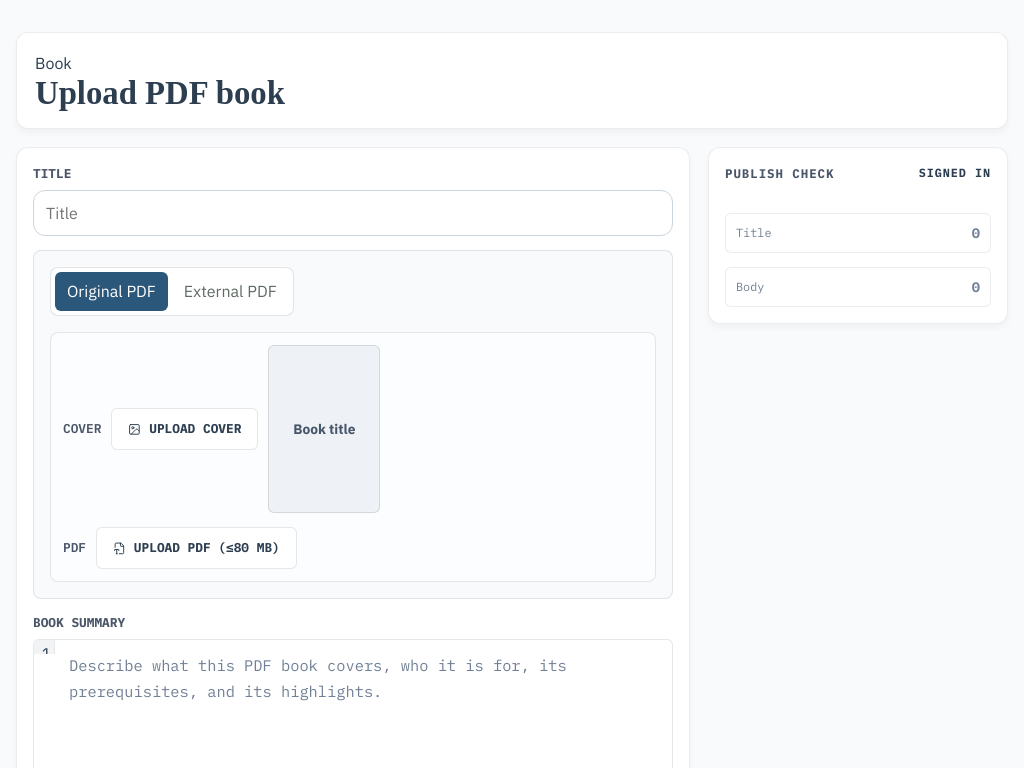
Test: renders localized original and external PDF book controls
This screenshot has width=1024, height=768.
Check: the heading "Upload PDF book" is shown, box [35,75,285,111]
Check: the element named "Book type" is shown, box [50,268,294,316]
Click the button "External PDF". click: coordinates (230, 292)
box: [172,272,289,311]
(page scrolled)
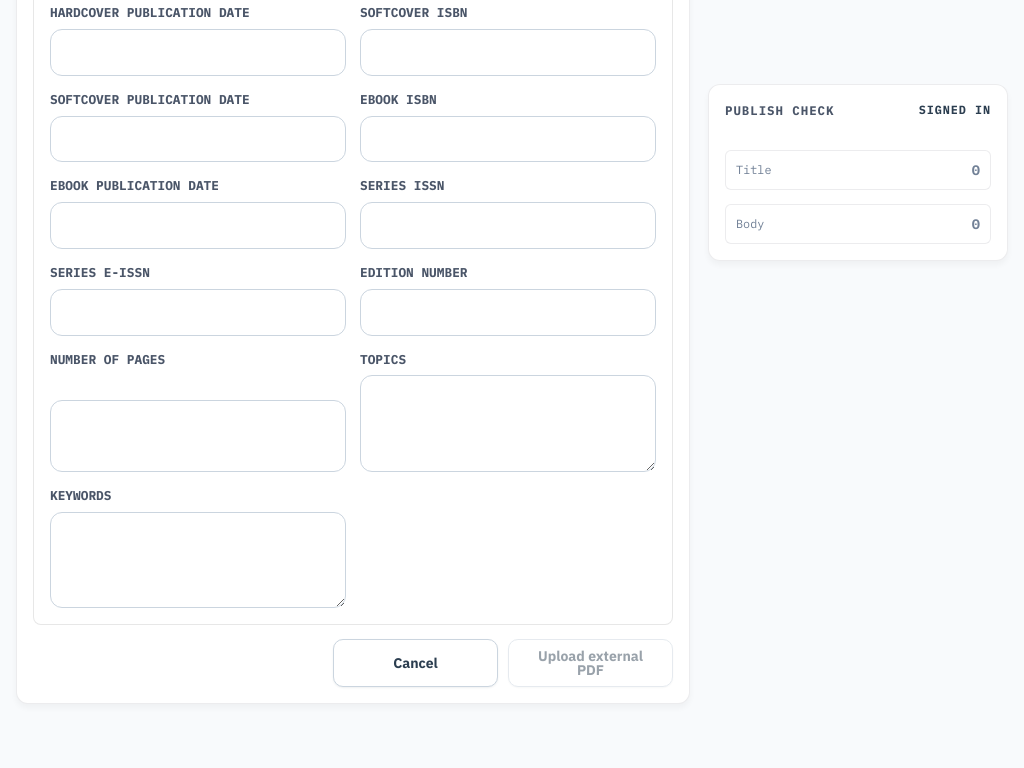
Check: the button "Upload external PDF" is shown, box [508,639,673,687]
